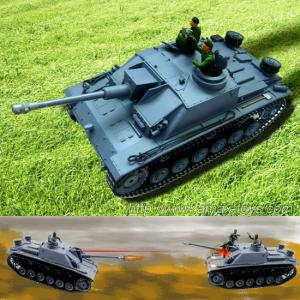Battle Tank: (64, 36, 287, 193), (9, 232, 102, 299), (204, 235, 298, 287)
